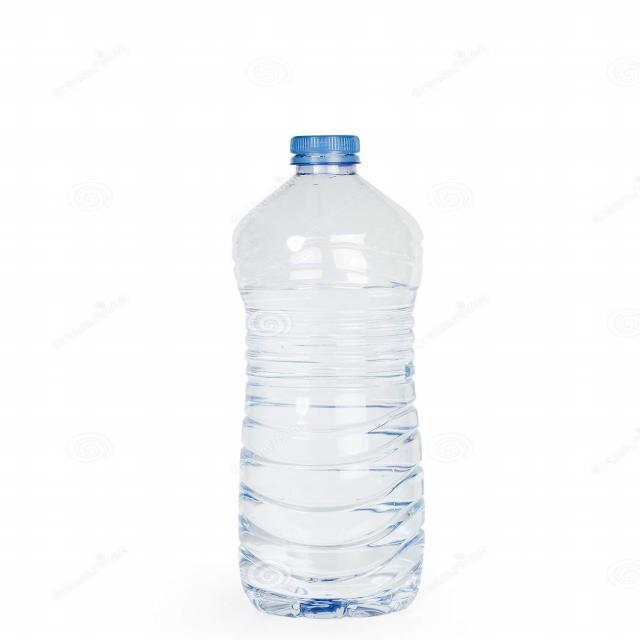chai: (235, 135, 424, 616)
